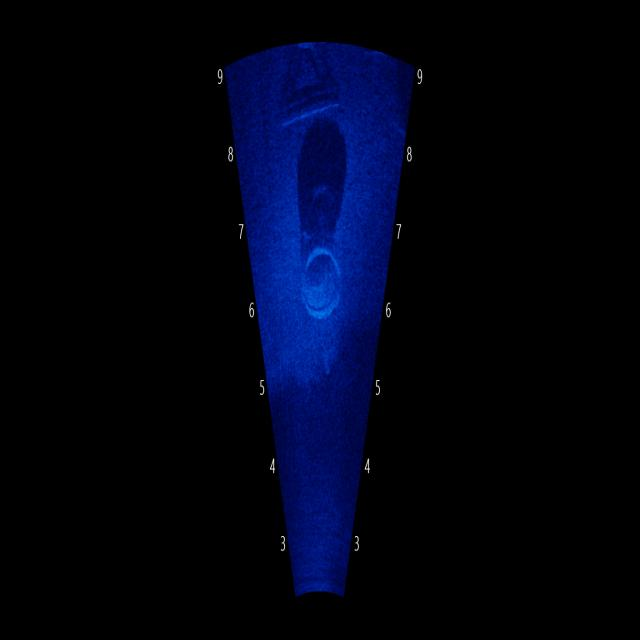circle: (287, 198, 349, 331)
